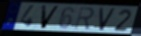2: (113, 9, 133, 33)
4: (19, 4, 37, 30)
6: (58, 6, 75, 30)
R: (73, 7, 96, 31)
V: (40, 4, 62, 30), (98, 8, 117, 32)
